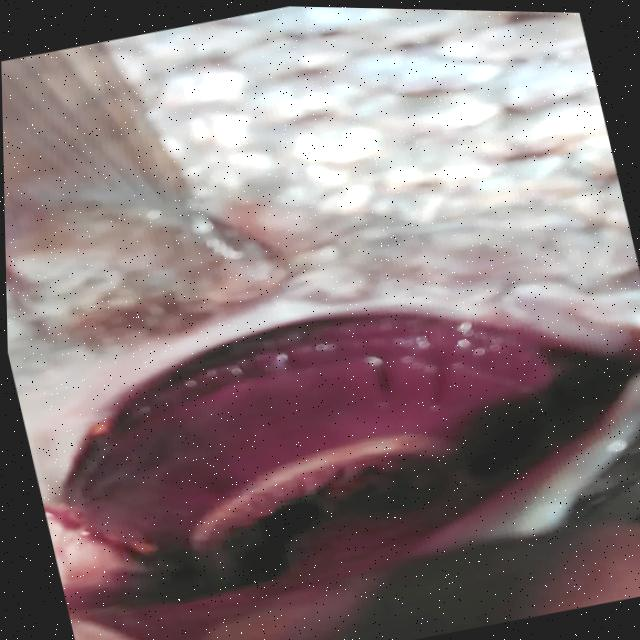Fresh: (15, 278, 640, 630)
